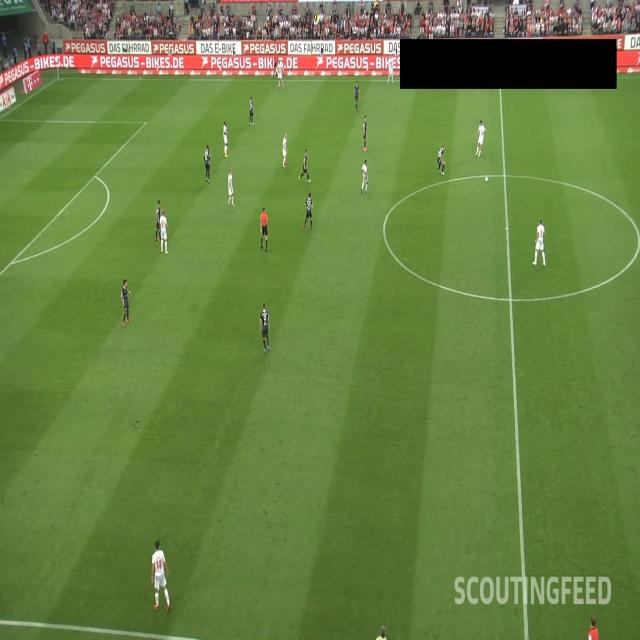ball: (484, 176, 489, 183)
